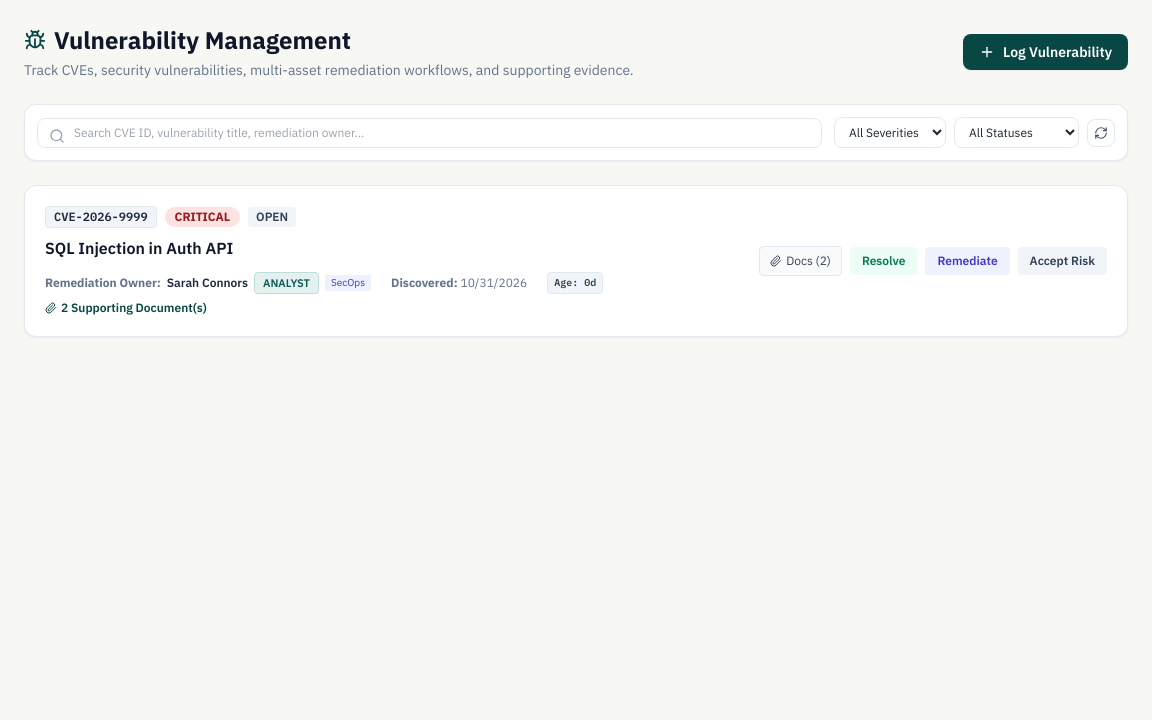
Phase 3 Workflows: Risk Clause Dropdown, Policy Governance & Vulnerability Ownership › Scope C — Vulnerability Ownership & Supporting Documents › opens evidence drawer, displays attached files, and prevents download of quarantined files
expect the heading "SQL Injection in Auth API" is shown: met, box [45,238,233,258]
Open evidence drawer
Click the button "Docs (2)".
click(800, 261)  # box [759,246,842,276]
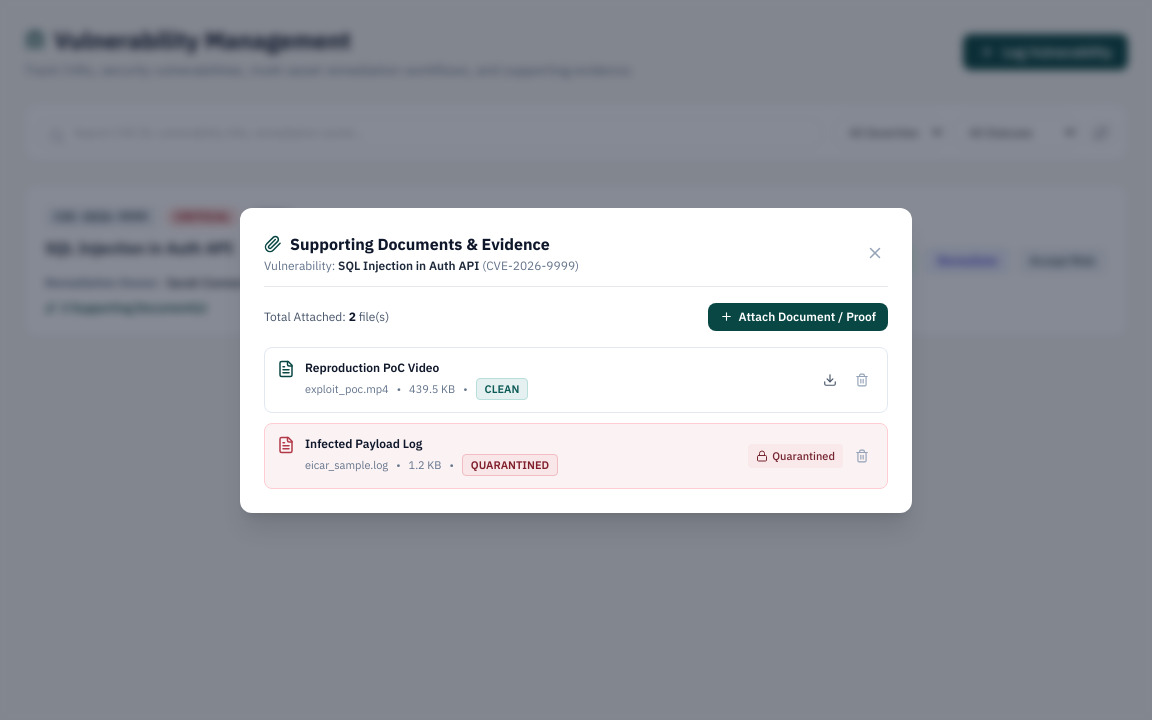
expect the heading "Supporting Documents & Evidence" is shown: met, box [290,232,550,256]
expect the text "Reproduction PoC Video" is shown: met, box [305,360,439,374]
expect the text "Infected Payload Log" is shown: met, box [305,436,422,450]
